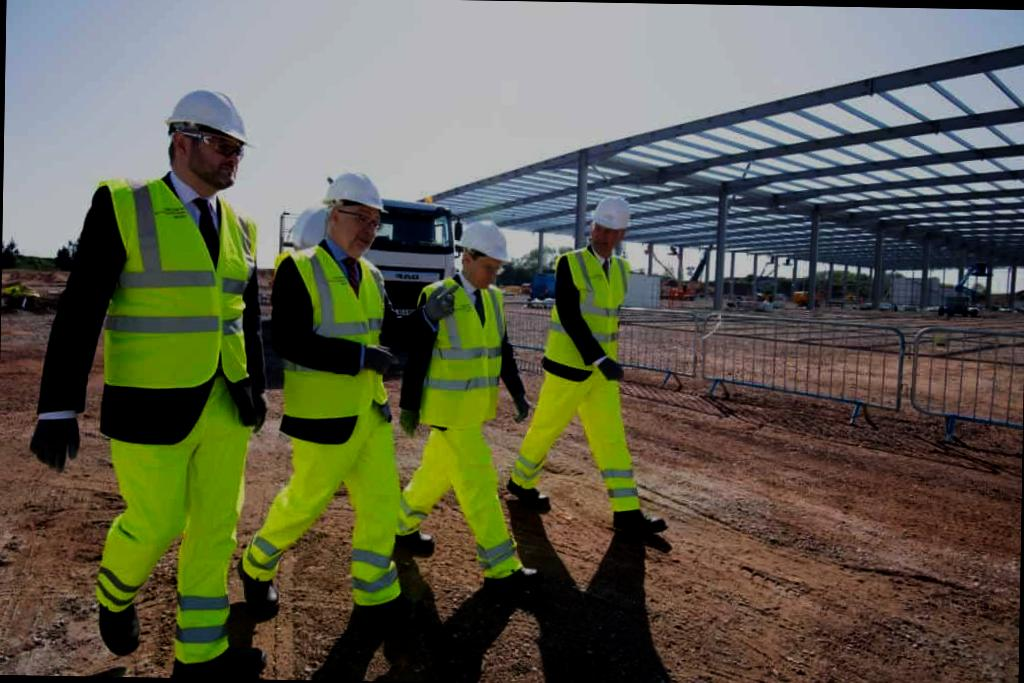helmet: (160, 90, 264, 152), (325, 163, 398, 212), (460, 221, 523, 264), (592, 194, 648, 236)
person: (46, 88, 280, 668), (236, 164, 422, 638), (375, 216, 533, 562), (518, 182, 652, 512)
